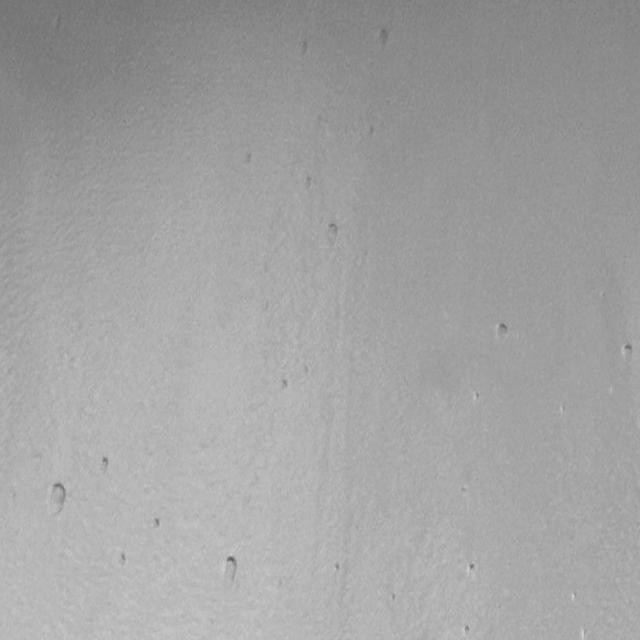pin holes: (45, 480, 70, 517), (218, 554, 240, 586), (322, 220, 343, 246), (374, 26, 394, 52), (92, 453, 111, 478), (493, 322, 512, 346), (236, 150, 256, 172), (293, 39, 312, 61), (298, 173, 316, 196), (112, 549, 130, 571), (617, 341, 634, 363), (276, 375, 291, 393), (147, 514, 162, 530), (364, 124, 377, 142), (330, 562, 342, 580), (459, 622, 472, 638), (464, 562, 476, 579), (388, 590, 399, 606), (470, 392, 482, 406), (577, 624, 589, 638), (568, 590, 579, 605)
